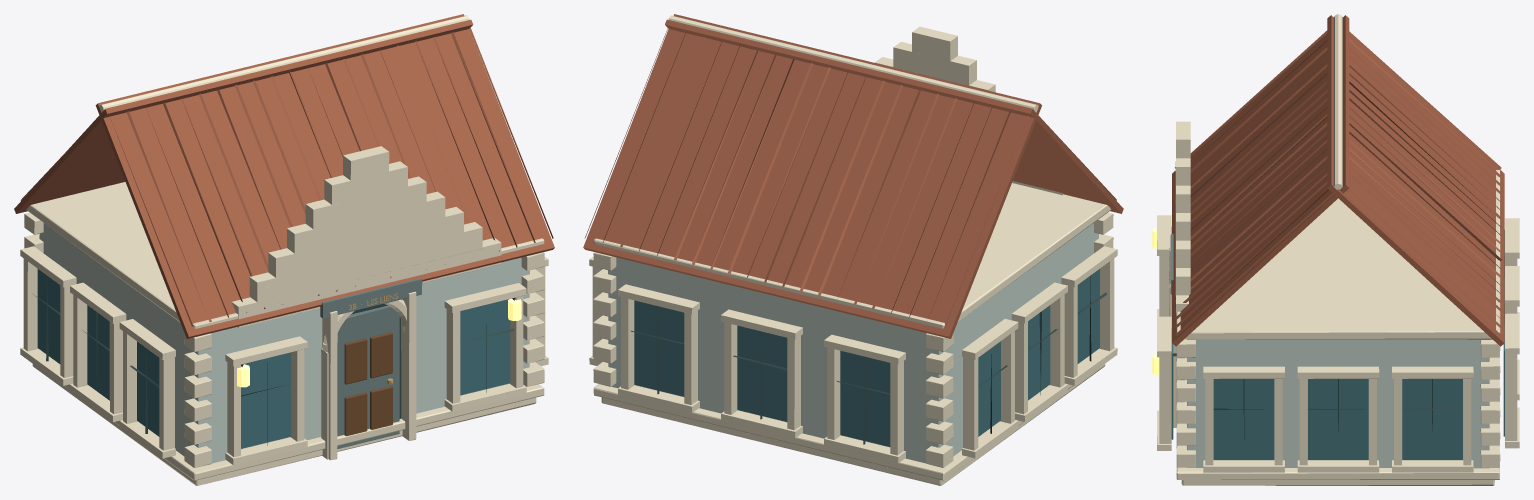
The model's file is estonie-1-lod.glb.
The picture shows the model from 3 angles, left to right: view 1: azimuth 30°, elevation 25°; view 2: azimuth 150°, elevation 25°; view 3: azimuth 270°, elevation 25°; orthographic projection. The views are drawn at different scales.
Parts seen in each view (by area): view 1: estonie-1_Regional roof.002, estonie-1_Dressed stone.002, estonie-1_Masonry plaster.002, estonie-1_Window blue.001, estonie-1_Regional painted wood.002, estonie-1_Walnut.001, estonie-1_Forged midnight.001, estonie-1_Warm light.001; view 2: estonie-1_Regional roof.002, estonie-1_Dressed stone.002, estonie-1_Masonry plaster.002, estonie-1_Window blue.001, estonie-1_Forged midnight.001; view 3: estonie-1_Regional roof.002, estonie-1_Dressed stone.002, estonie-1_Window blue.001, estonie-1_Masonry plaster.002, estonie-1_Forged midnight.001.
Boxes of the visible parts, x1=… form: estonie-1_Regional roof.002: x1=14, y1=14, x2=554, y2=338; estonie-1_Dressed stone.002: x1=20, y1=15, x2=548, y2=485; estonie-1_Masonry plaster.002: x1=39, y1=223, x2=529, y2=463; estonie-1_Window blue.001: x1=37, y1=269, x2=510, y2=448; estonie-1_Regional painted wood.002: x1=320, y1=278, x2=422, y2=449; estonie-1_Walnut.001: x1=344, y1=332, x2=392, y2=436; estonie-1_Forged midnight.001: x1=33, y1=276, x2=514, y2=445; estonie-1_Warm light.001: x1=237, y1=298, x2=521, y2=387; estonie-1_Regional roof.002: x1=583, y1=14, x2=1123, y2=338; estonie-1_Dressed stone.002: x1=589, y1=15, x2=1117, y2=485; estonie-1_Masonry plaster.002: x1=608, y1=223, x2=1098, y2=463; estonie-1_Window blue.001: x1=634, y1=269, x2=1099, y2=446; estonie-1_Forged midnight.001: x1=631, y1=276, x2=1107, y2=444; estonie-1_Regional roof.002: x1=1172, y1=15, x2=1504, y2=346; estonie-1_Dressed stone.002: x1=1157, y1=14, x2=1519, y2=485; estonie-1_Window blue.001: x1=1171, y1=227, x2=1504, y2=459; estonie-1_Masonry plaster.002: x1=1186, y1=339, x2=1489, y2=468; estonie-1_Forged midnight.001: x1=1173, y1=353, x2=1462, y2=440.
Bounding box in the file's own units: 13.93 × 11.2 × 12.08.
